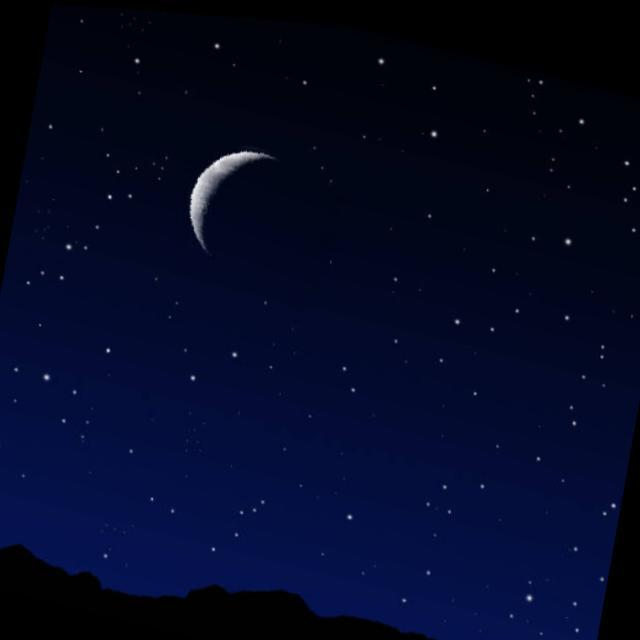moon: (163, 117, 348, 308)
